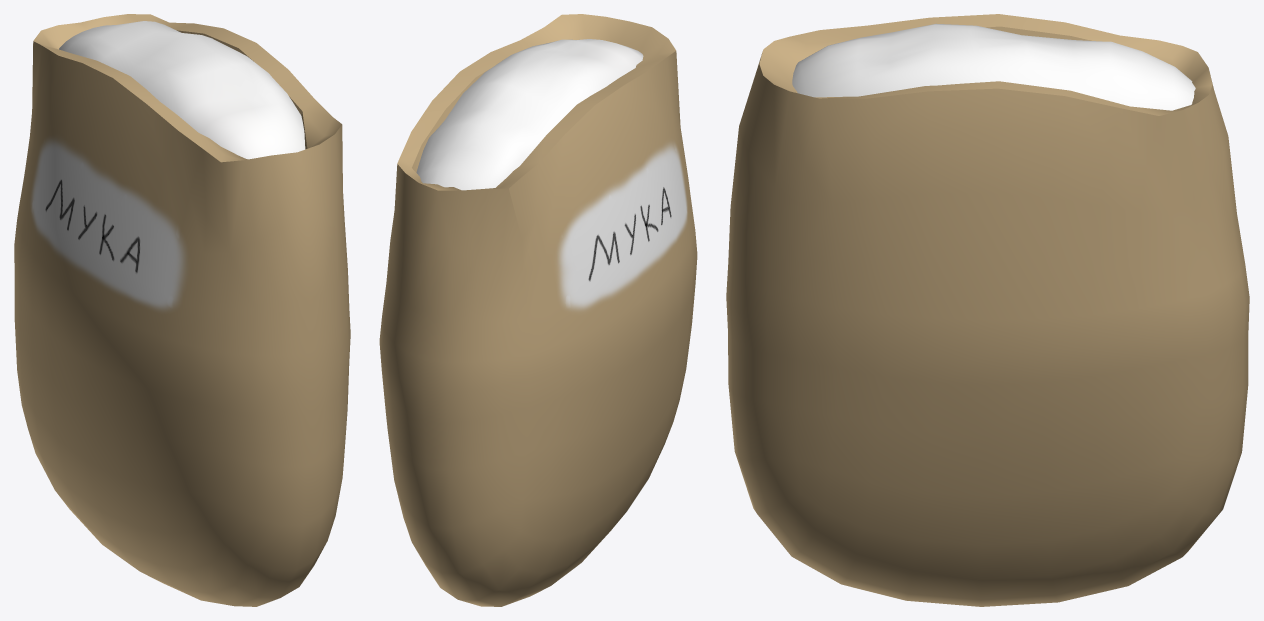
File: flour.dae
3 views of the same model, side by side, from view 1: azimuth 30°, elevation 25°; view 2: azimuth 150°, elevation 25°; view 3: azimuth 270°, elevation 25° (orthographic). The views are drawn at different scales.
Visible parts, largest first — view 1: Flour; view 2: Flour; view 3: Flour.
Boxes of the visible parts, <box> form: Flour: <box>14,14,350,606</box>; Flour: <box>379,14,697,606</box>; Flour: <box>726,14,1249,606</box>.
Bounding box in the file's own units: 0.8766 × 1.68 × 2.01.
